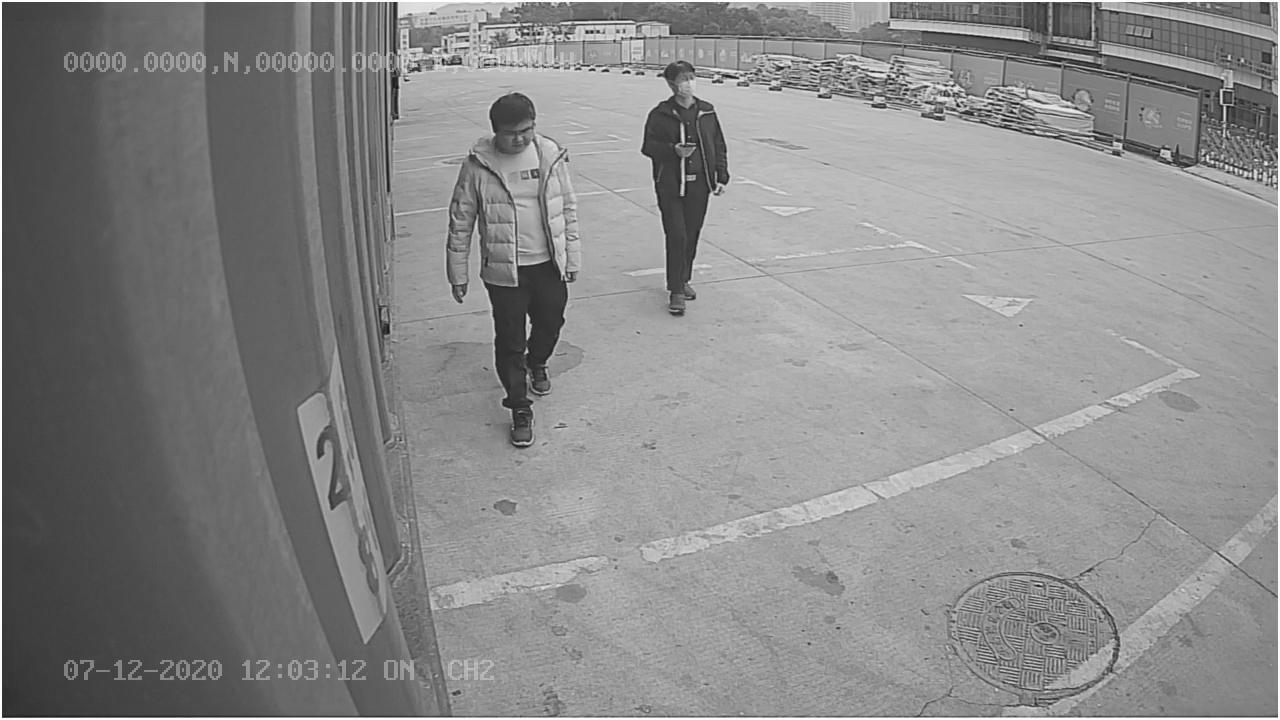person: (441, 90, 584, 455), (638, 56, 730, 317)
